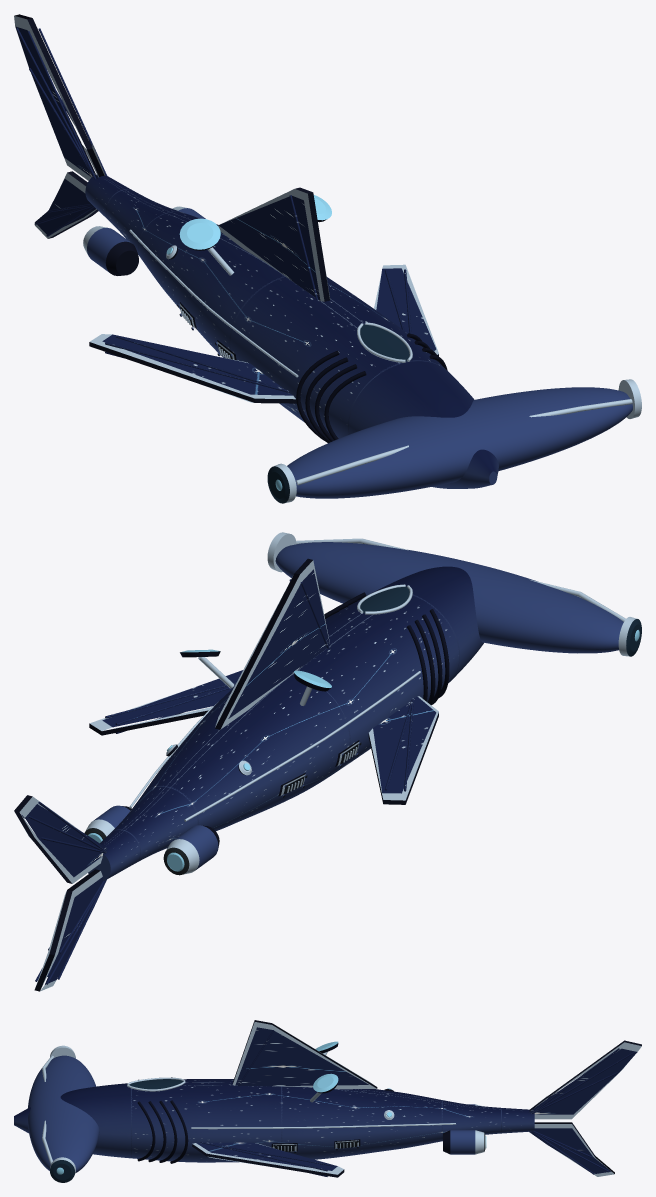
3 views of the same model, one above another, from view 1: azimuth 30°, elevation 25°; view 2: azimuth 150°, elevation 25°; view 3: azimuth 270°, elevation 25° (orthographic). The views are drawn at different scales.
Visible parts, largest first — view 1: hammerhead_hull; view 2: hammerhead_hull; view 3: hammerhead_hull.
Boxes of the visible parts, x1,y1,x2,y2 form: hammerhead_hull: (14,14,641,503); hammerhead_hull: (14,532,641,991); hammerhead_hull: (14,1020,641,1182).
Size of the model in its own units: 119 by 74.23 by 272.
Materials: 1 (1 with a texture image).
